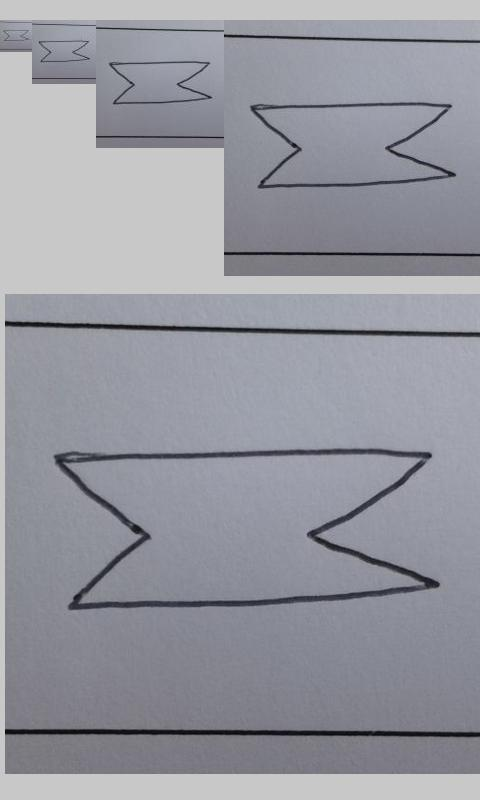edit_text: (52, 447, 440, 613), (251, 101, 457, 189), (109, 61, 212, 104), (38, 40, 90, 63), (3, 29, 29, 41)
